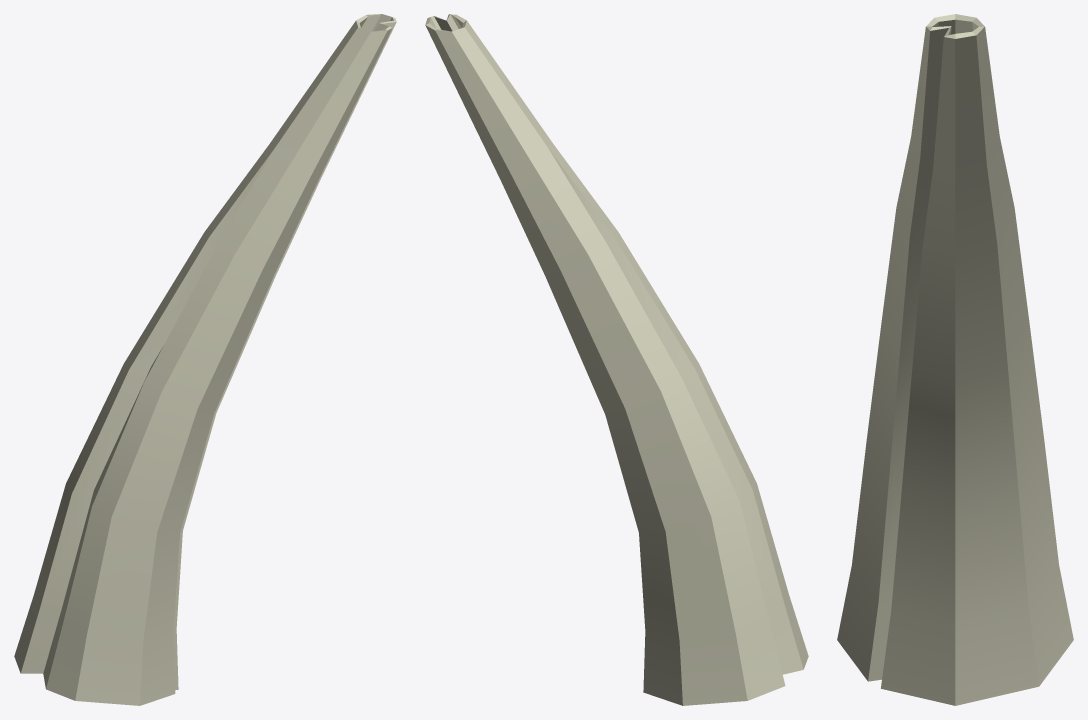
Rendered from SM_Bone_02.fbx.
3 views of the same model, side by side, from view 1: azimuth 30°, elevation 25°; view 2: azimuth 150°, elevation 25°; view 3: azimuth 270°, elevation 25° (orthographic). The views are drawn at different scales.
Parts seen in each view (by area): view 1: Bone_02; view 2: Bone_02; view 3: Bone_02.
Boxes of the visible parts, x1=… form: Bone_02: x1=14, y1=14, x2=396, y2=705; Bone_02: x1=425, y1=14, x2=808, y2=705; Bone_02: x1=837, y1=14, x2=1073, y2=705.
Bounding box in the file's own units: 154 × 240 × 62.76.
